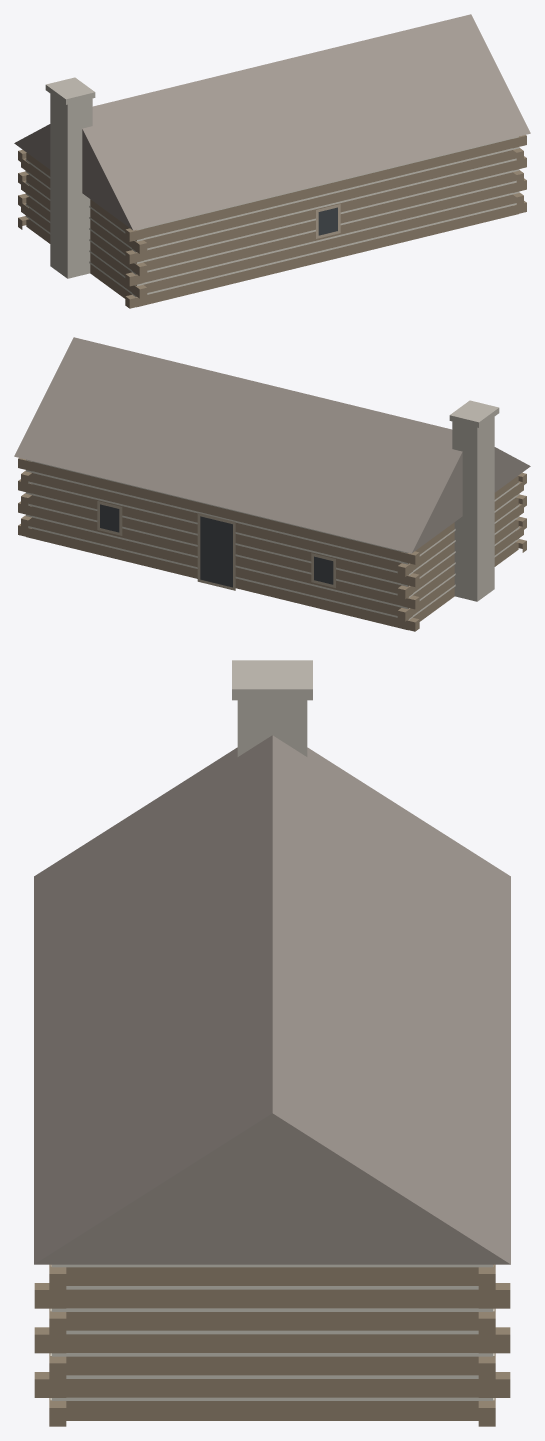
The model's file is jb_beaubien_homestead__factory_1817.glb.
3 renders of one model, top to bottom at view 1: azimuth 30°, elevation 25°; view 2: azimuth 150°, elevation 25°; view 3: azimuth 270°, elevation 25°, orthographic. The views are drawn at different scales.
Parts seen in each view (by area): view 1: jb_beaubien_homestead__factory_1817; view 2: jb_beaubien_homestead__factory_1817; view 3: jb_beaubien_homestead__factory_1817.
Part boxes in pixels (left/top/right/bottom): jb_beaubien_homestead__factory_1817: left=14, top=14, right=530, bottom=308; jb_beaubien_homestead__factory_1817: left=14, top=337, right=530, bottom=631; jb_beaubien_homestead__factory_1817: left=34, top=660, right=510, bottom=1426.
Size of the model in its own units: 13.26 by 5.59 by 6.6.
